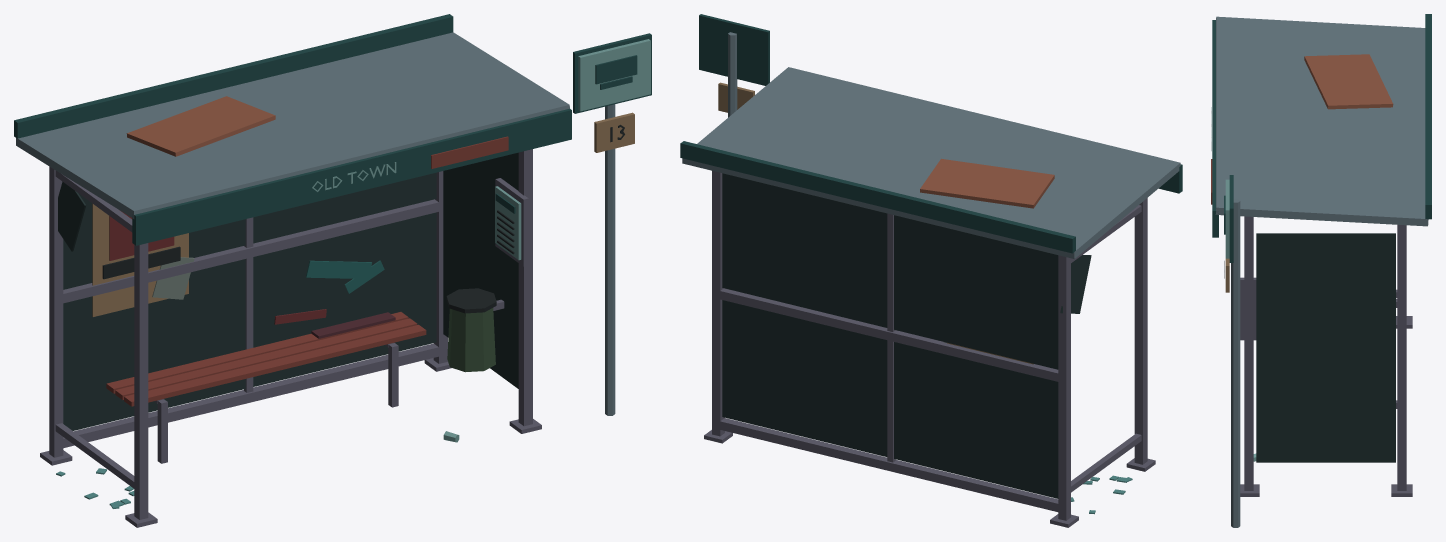
Rendered from statie_old_town.glb.
The picture shows the model from 3 angles, left to right: view 1: azimuth 30°, elevation 25°; view 2: azimuth 150°, elevation 25°; view 3: azimuth 270°, elevation 25°; orthographic projection. The views are drawn at different scales.
Visible parts, largest first — view 1: Statie, Geamuri; view 2: Geamuri, Statie; view 3: Statie, Geamuri.
Part boxes in pixels (x1,y1,x2,y2): Statie: (14, 14, 651, 527); Geamuri: (58, 152, 518, 430); Geamuri: (722, 173, 1091, 498); Statie: (680, 14, 1182, 527); Statie: (1211, 14, 1431, 527); Geamuri: (1256, 233, 1395, 462).
Size of the model in its own units: 4.1 by 2.77 by 1.66.
